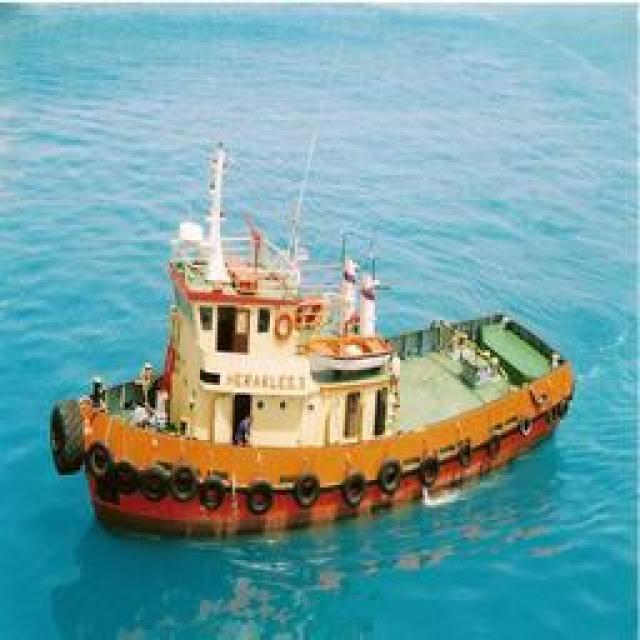CIV_Ship: (54, 154, 574, 534)
